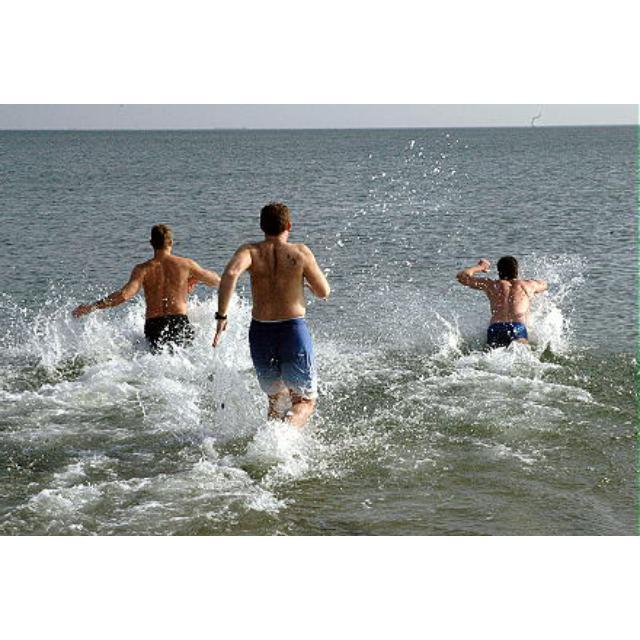human: (210, 201, 336, 441), (72, 220, 229, 381), (460, 252, 553, 365)
